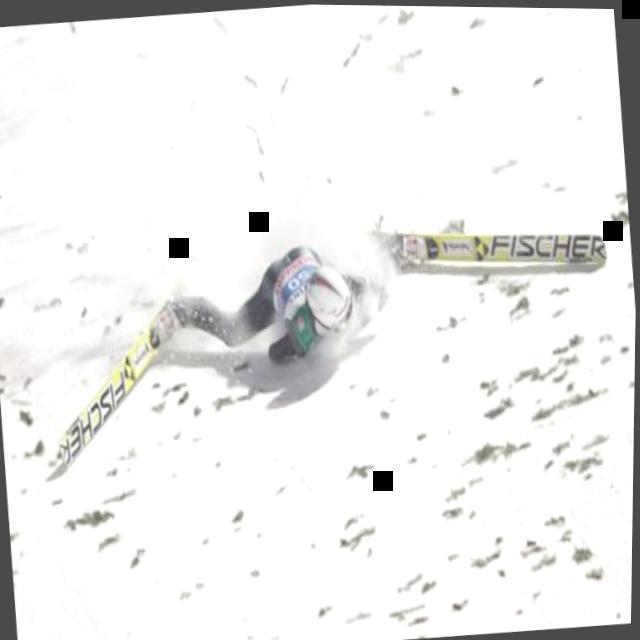Fall-Detected: (133, 176, 482, 398)
